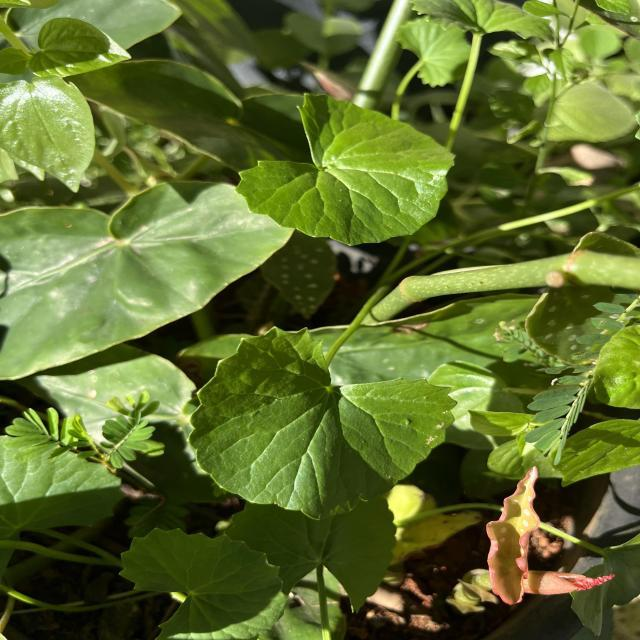Centella asiatica: (186, 322, 460, 524), (230, 91, 458, 248)
